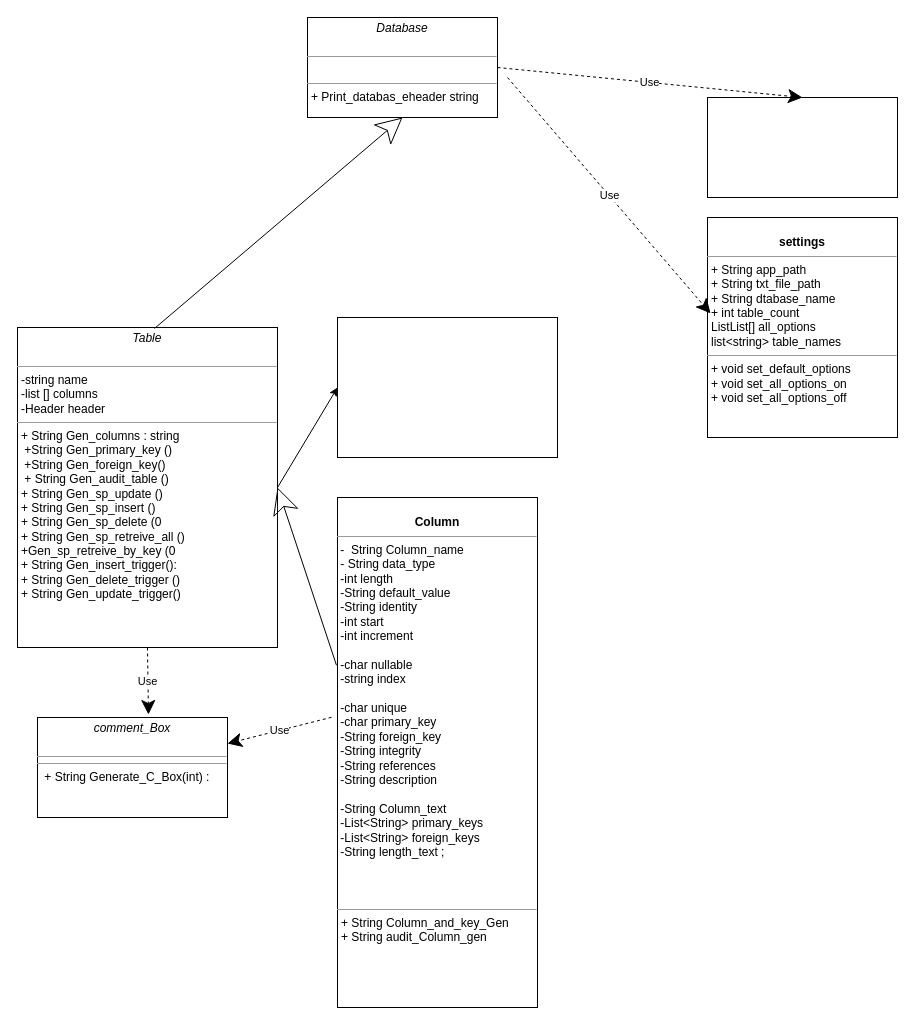
The diagram is 915 pixels wide and 1025 high, and some of its shapes have lost their labels. The centre of each missing label's shape, as x and y in pixels:
"DataAccess + void file_read + void file_write" goes at (x=802, y=147).
"Header + String active_table_header_gen + String audit_table_header_Gen" goes at (x=447, y=387).
